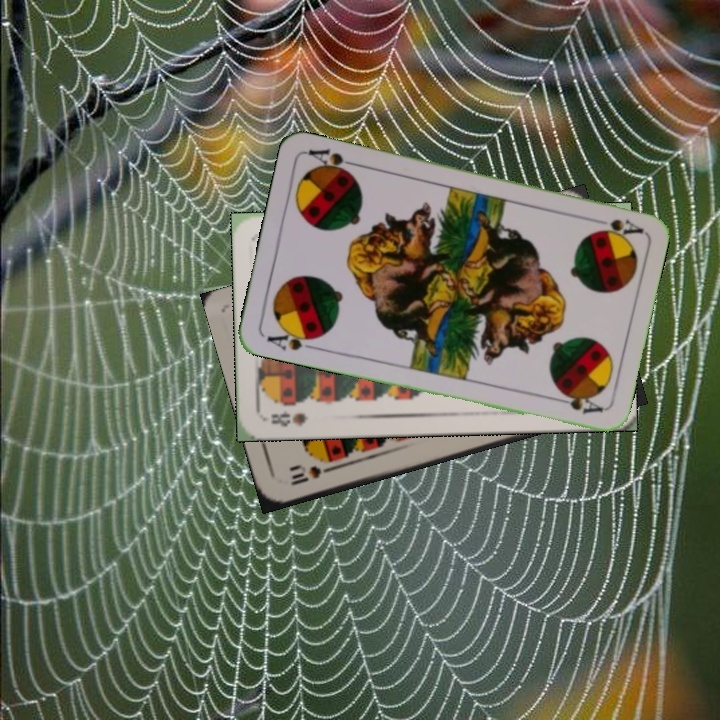S10: (286, 462, 338, 488)
S8: (267, 407, 310, 430)
SA: (262, 324, 323, 353), (586, 213, 645, 240)
